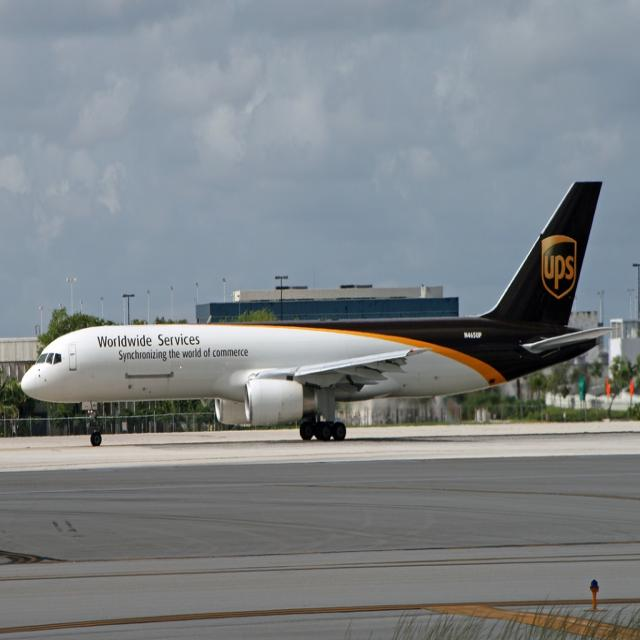ups: (542, 234, 578, 299)
